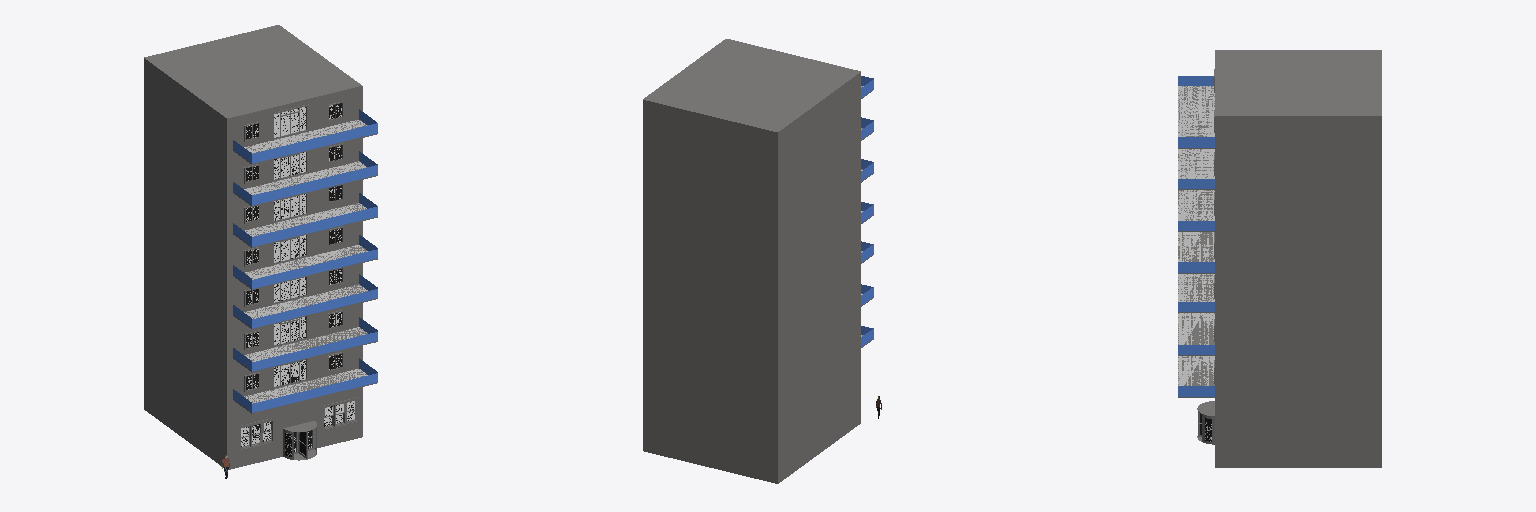
3 renders of one model, left to right at view 1: azimuth 30°, elevation 25°; view 2: azimuth 150°, elevation 25°; view 3: azimuth 270°, elevation 25°, orthographic.
Parts seen in each view (by area): view 1: Mesh136 building1 Model, Mesh38 Door_Glass_Double_Sidelights1 building1 Model, Mesh116 Window_3lite_8__6x5__4_1 building1 Model, Mesh123 Window_3lite_8__6x5__4_2 building1 Model, Mesh68 Door_Glass_Double_Sidelights6 building1 Model, Mesh56 Door_Glass_Double_Sidelights4 building1 Model, Mesh44 Door_Glass_Double_Sidelights2 building1 Model, Mesh31 DoorRevolving1 building1 Model, Mesh50 Door_Glass_Double_Sidelights3 building1 Model, Mesh74 Door_Glass_Double_Sidelights7 building1 Model, Mesh62 Door_Glass_Double_Sidelights5 building1 Model; view 2: Mesh136 building1 Model; view 3: Mesh136 building1 Model.
Boxes of the visible parts, <box> form: Mesh136 building1 Model: <box>144,25,377,469</box>; Mesh38 Door_Glass_Double_Sidelights1 building1 Model: <box>273,104,308,140</box>; Mesh116 Window_3lite_8__6x5__4_1 building1 Model: <box>323,397,357,430</box>; Mesh123 Window_3lite_8__6x5__4_2 building1 Model: <box>240,418,273,450</box>; Mesh68 Door_Glass_Double_Sidelights6 building1 Model: <box>273,316,308,347</box>; Mesh56 Door_Glass_Double_Sidelights4 building1 Model: <box>273,235,308,265</box>; Mesh44 Door_Glass_Double_Sidelights2 building1 Model: <box>273,151,308,181</box>; Mesh31 DoorRevolving1 building1 Model: <box>283,421,316,460</box>; Mesh50 Door_Glass_Double_Sidelights3 building1 Model: <box>273,193,308,223</box>; Mesh74 Door_Glass_Double_Sidelights7 building1 Model: <box>273,359,308,389</box>; Mesh62 Door_Glass_Double_Sidelights5 building1 Model: <box>273,276,308,304</box>; Mesh136 building1 Model: <box>643,39,873,483</box>; Mesh136 building1 Model: <box>1178,50,1381,467</box>.
Size of the model in its own units: 11.84 by 26.8 by 14.15.